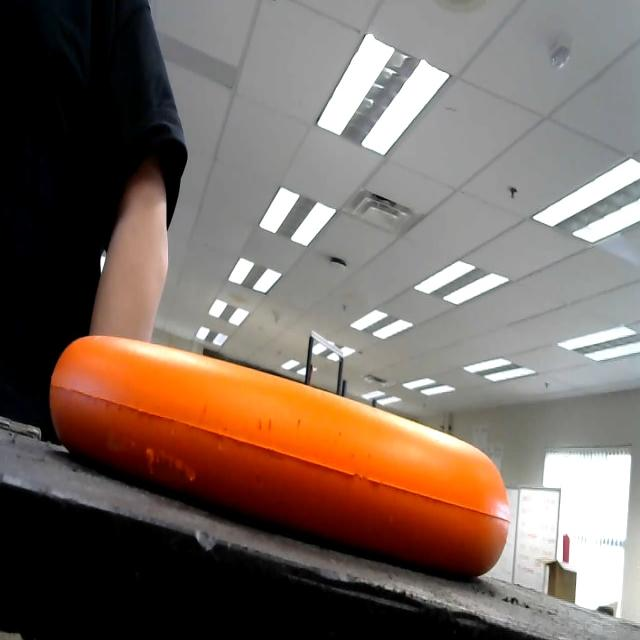note: (38, 318, 525, 593)
